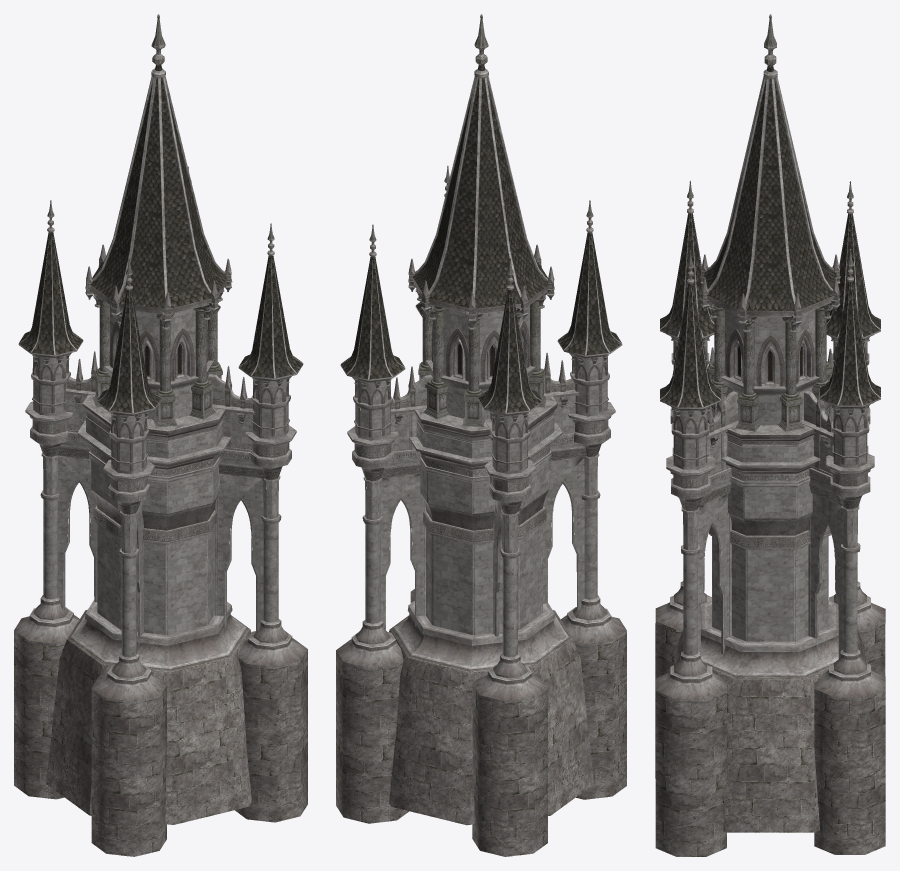
Rendered from eso_ss15_buildingspires5-transformed.glb.
The picture shows the model from 3 angles, left to right: view 1: azimuth 30°, elevation 25°; view 2: azimuth 150°, elevation 25°; view 3: azimuth 270°, elevation 25°; orthographic projection.
Parts seen in each view (by area): view 1: default; view 2: default; view 3: default.
Part boxes in pixels (left/top/right/bottom): default: left=14, top=14, right=307, bottom=856; default: left=336, top=14, right=626, bottom=856; default: left=655, top=14, right=885, bottom=856.
Size of the model in its own units: 25.9 by 95.9 by 25.24.
5 materials, 5 textured.
